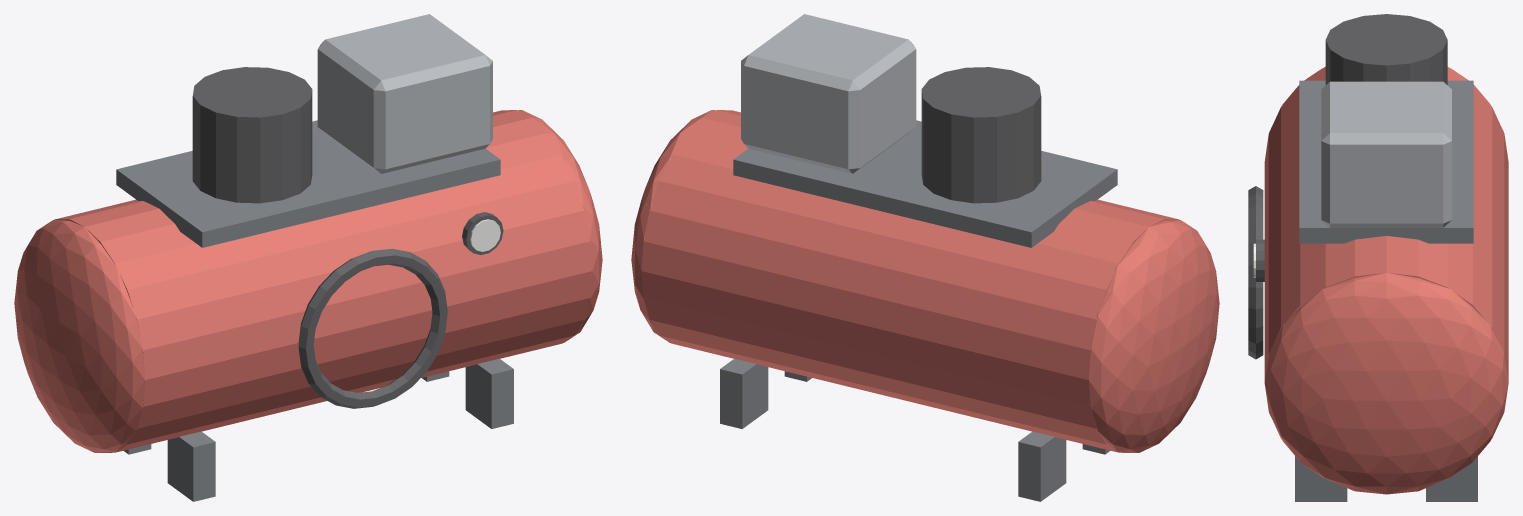
The model's file is compressor.glb.
3 renders of one model, left to right at view 1: azimuth 30°, elevation 25°; view 2: azimuth 150°, elevation 25°; view 3: azimuth 270°, elevation 25°, orthographic.
Visible parts, largest first — view 1: compressor_tool_r, compressor_dark, compressor_steel_d, compressor_steel, compressor_paint_w; view 2: compressor_tool_r, compressor_steel_d, compressor_steel, compressor_dark; view 3: compressor_tool_r, compressor_steel, compressor_steel_d, compressor_dark.
Boxes of the visible parts, bbox=[...] form: compressor_tool_r: bbox=[14, 110, 602, 452]; compressor_dark: bbox=[192, 67, 503, 408]; compressor_steel_d: bbox=[116, 120, 513, 501]; compressor_steel: bbox=[317, 14, 492, 173]; compressor_paint_w: bbox=[470, 219, 500, 251]; compressor_tool_r: bbox=[631, 110, 1219, 452]; compressor_steel_d: bbox=[720, 120, 1117, 501]; compressor_steel: bbox=[741, 14, 916, 173]; compressor_dark: bbox=[921, 67, 1041, 203]; compressor_tool_r: bbox=[1264, 66, 1508, 494]; compressor_steel: bbox=[1321, 81, 1451, 227]; compressor_steel_d: bbox=[1295, 80, 1477, 501]; compressor_dark: bbox=[1248, 14, 1447, 359].
Bounding box in the file's own units: 1.4 × 0.92 × 0.5973.
